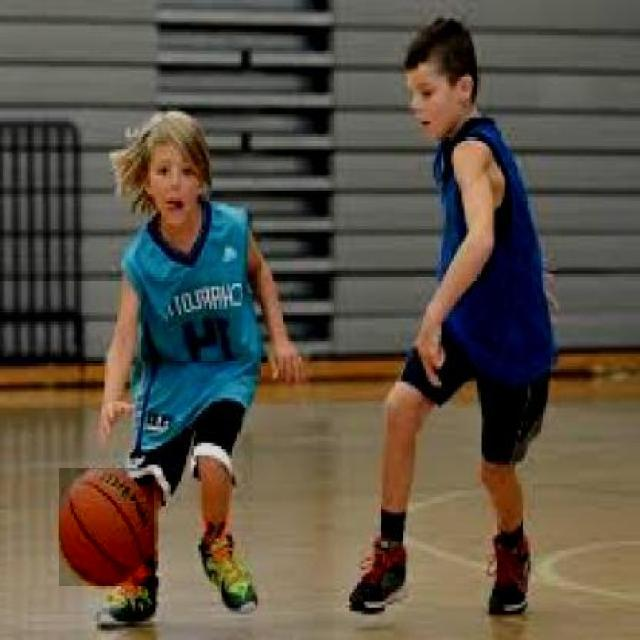Ball: (59, 468, 154, 586)
